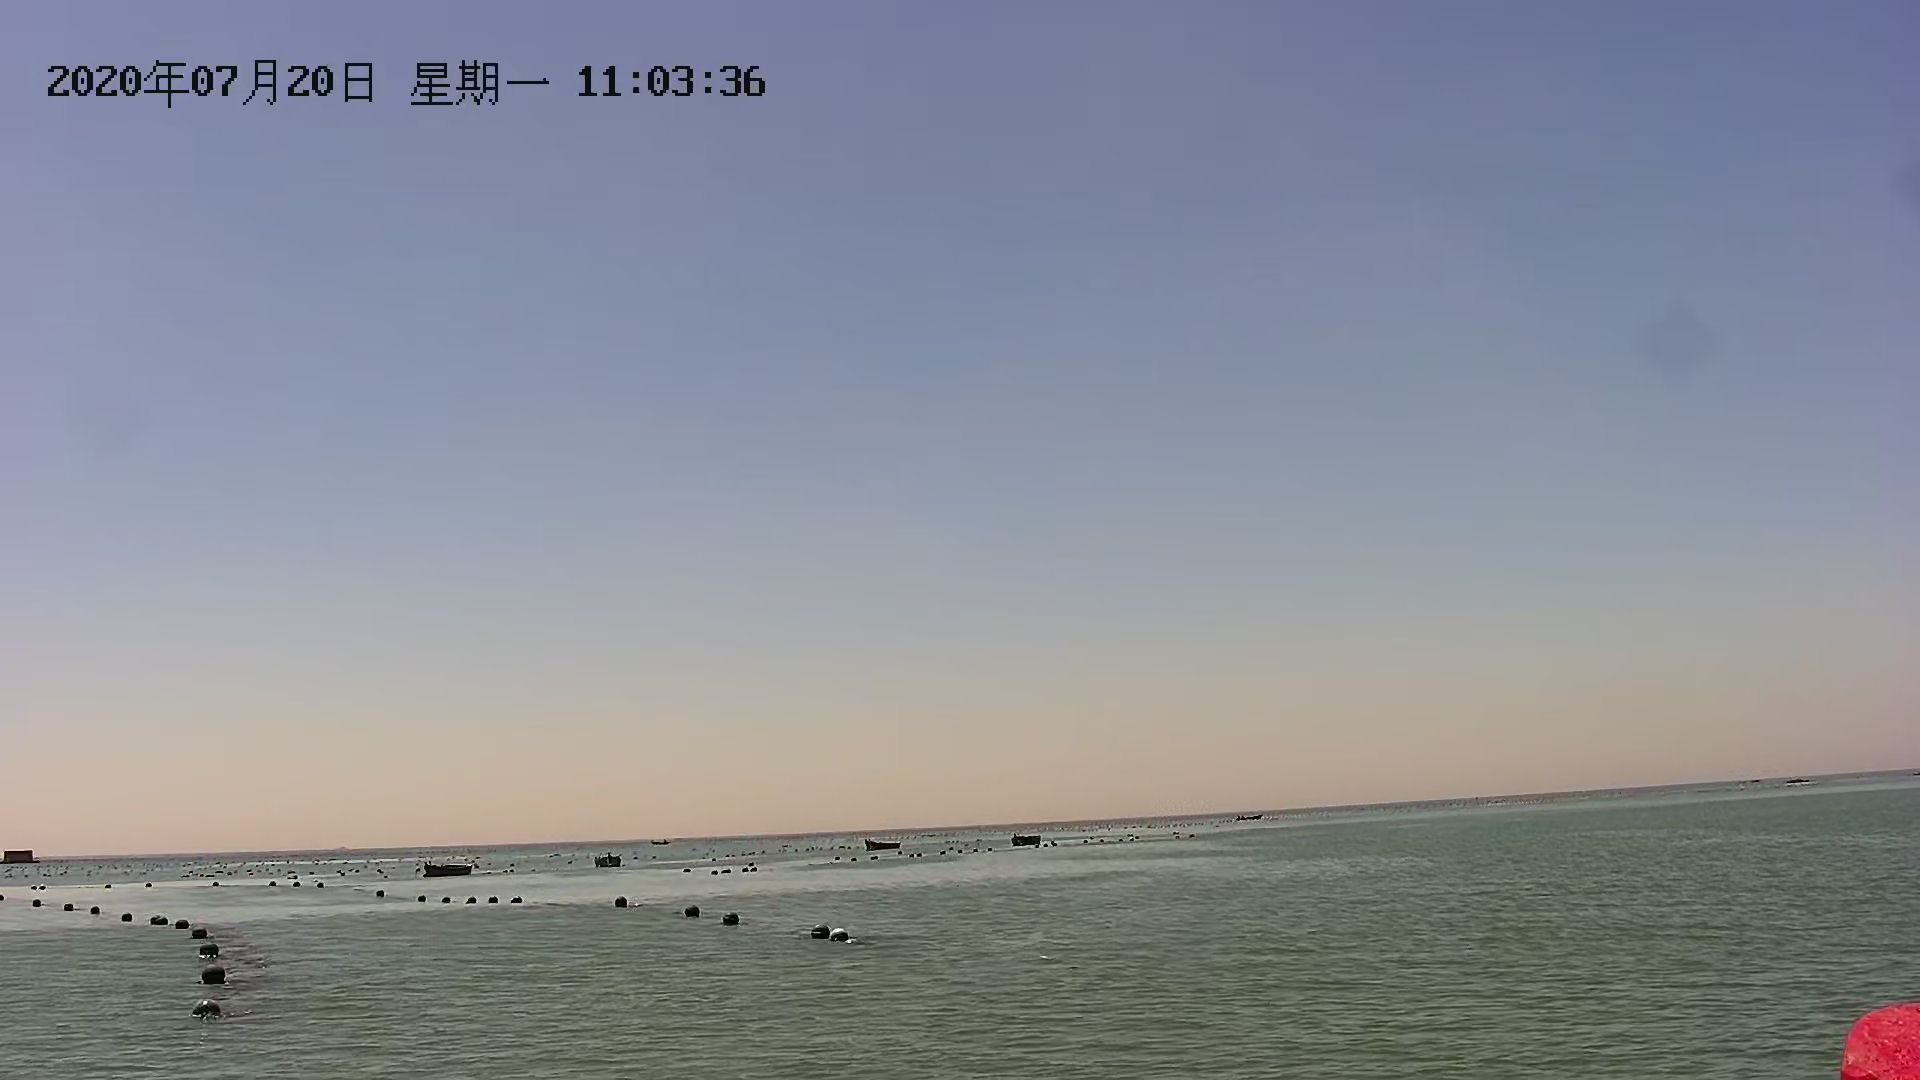ball: (185, 1000, 233, 1023), (195, 940, 224, 967), (804, 920, 833, 945), (196, 965, 231, 986), (823, 923, 855, 944), (715, 906, 749, 924), (189, 920, 214, 942), (680, 903, 707, 920), (612, 895, 634, 913)
boat: (404, 858, 480, 882), (1004, 825, 1058, 853), (588, 849, 638, 869), (861, 835, 907, 855)
platform: (1, 848, 40, 869)
